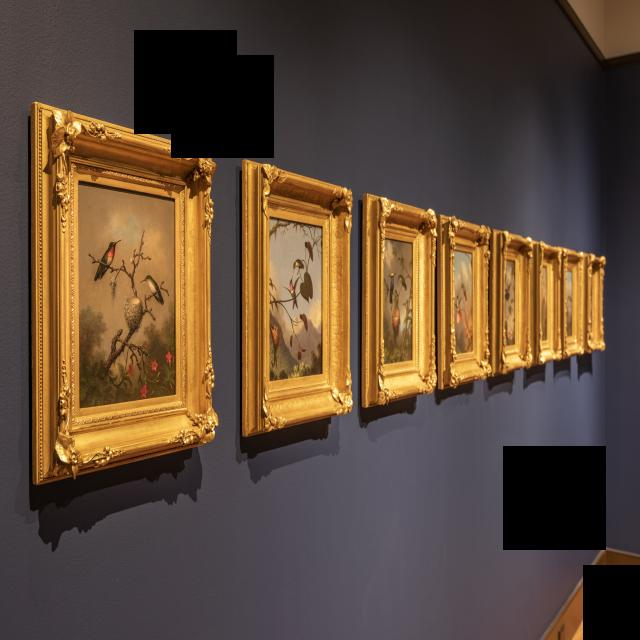Tablo: (78, 180, 176, 409), (269, 216, 323, 381), (384, 238, 413, 364), (454, 250, 472, 354), (506, 260, 515, 346), (541, 265, 547, 341), (567, 271, 572, 336)
